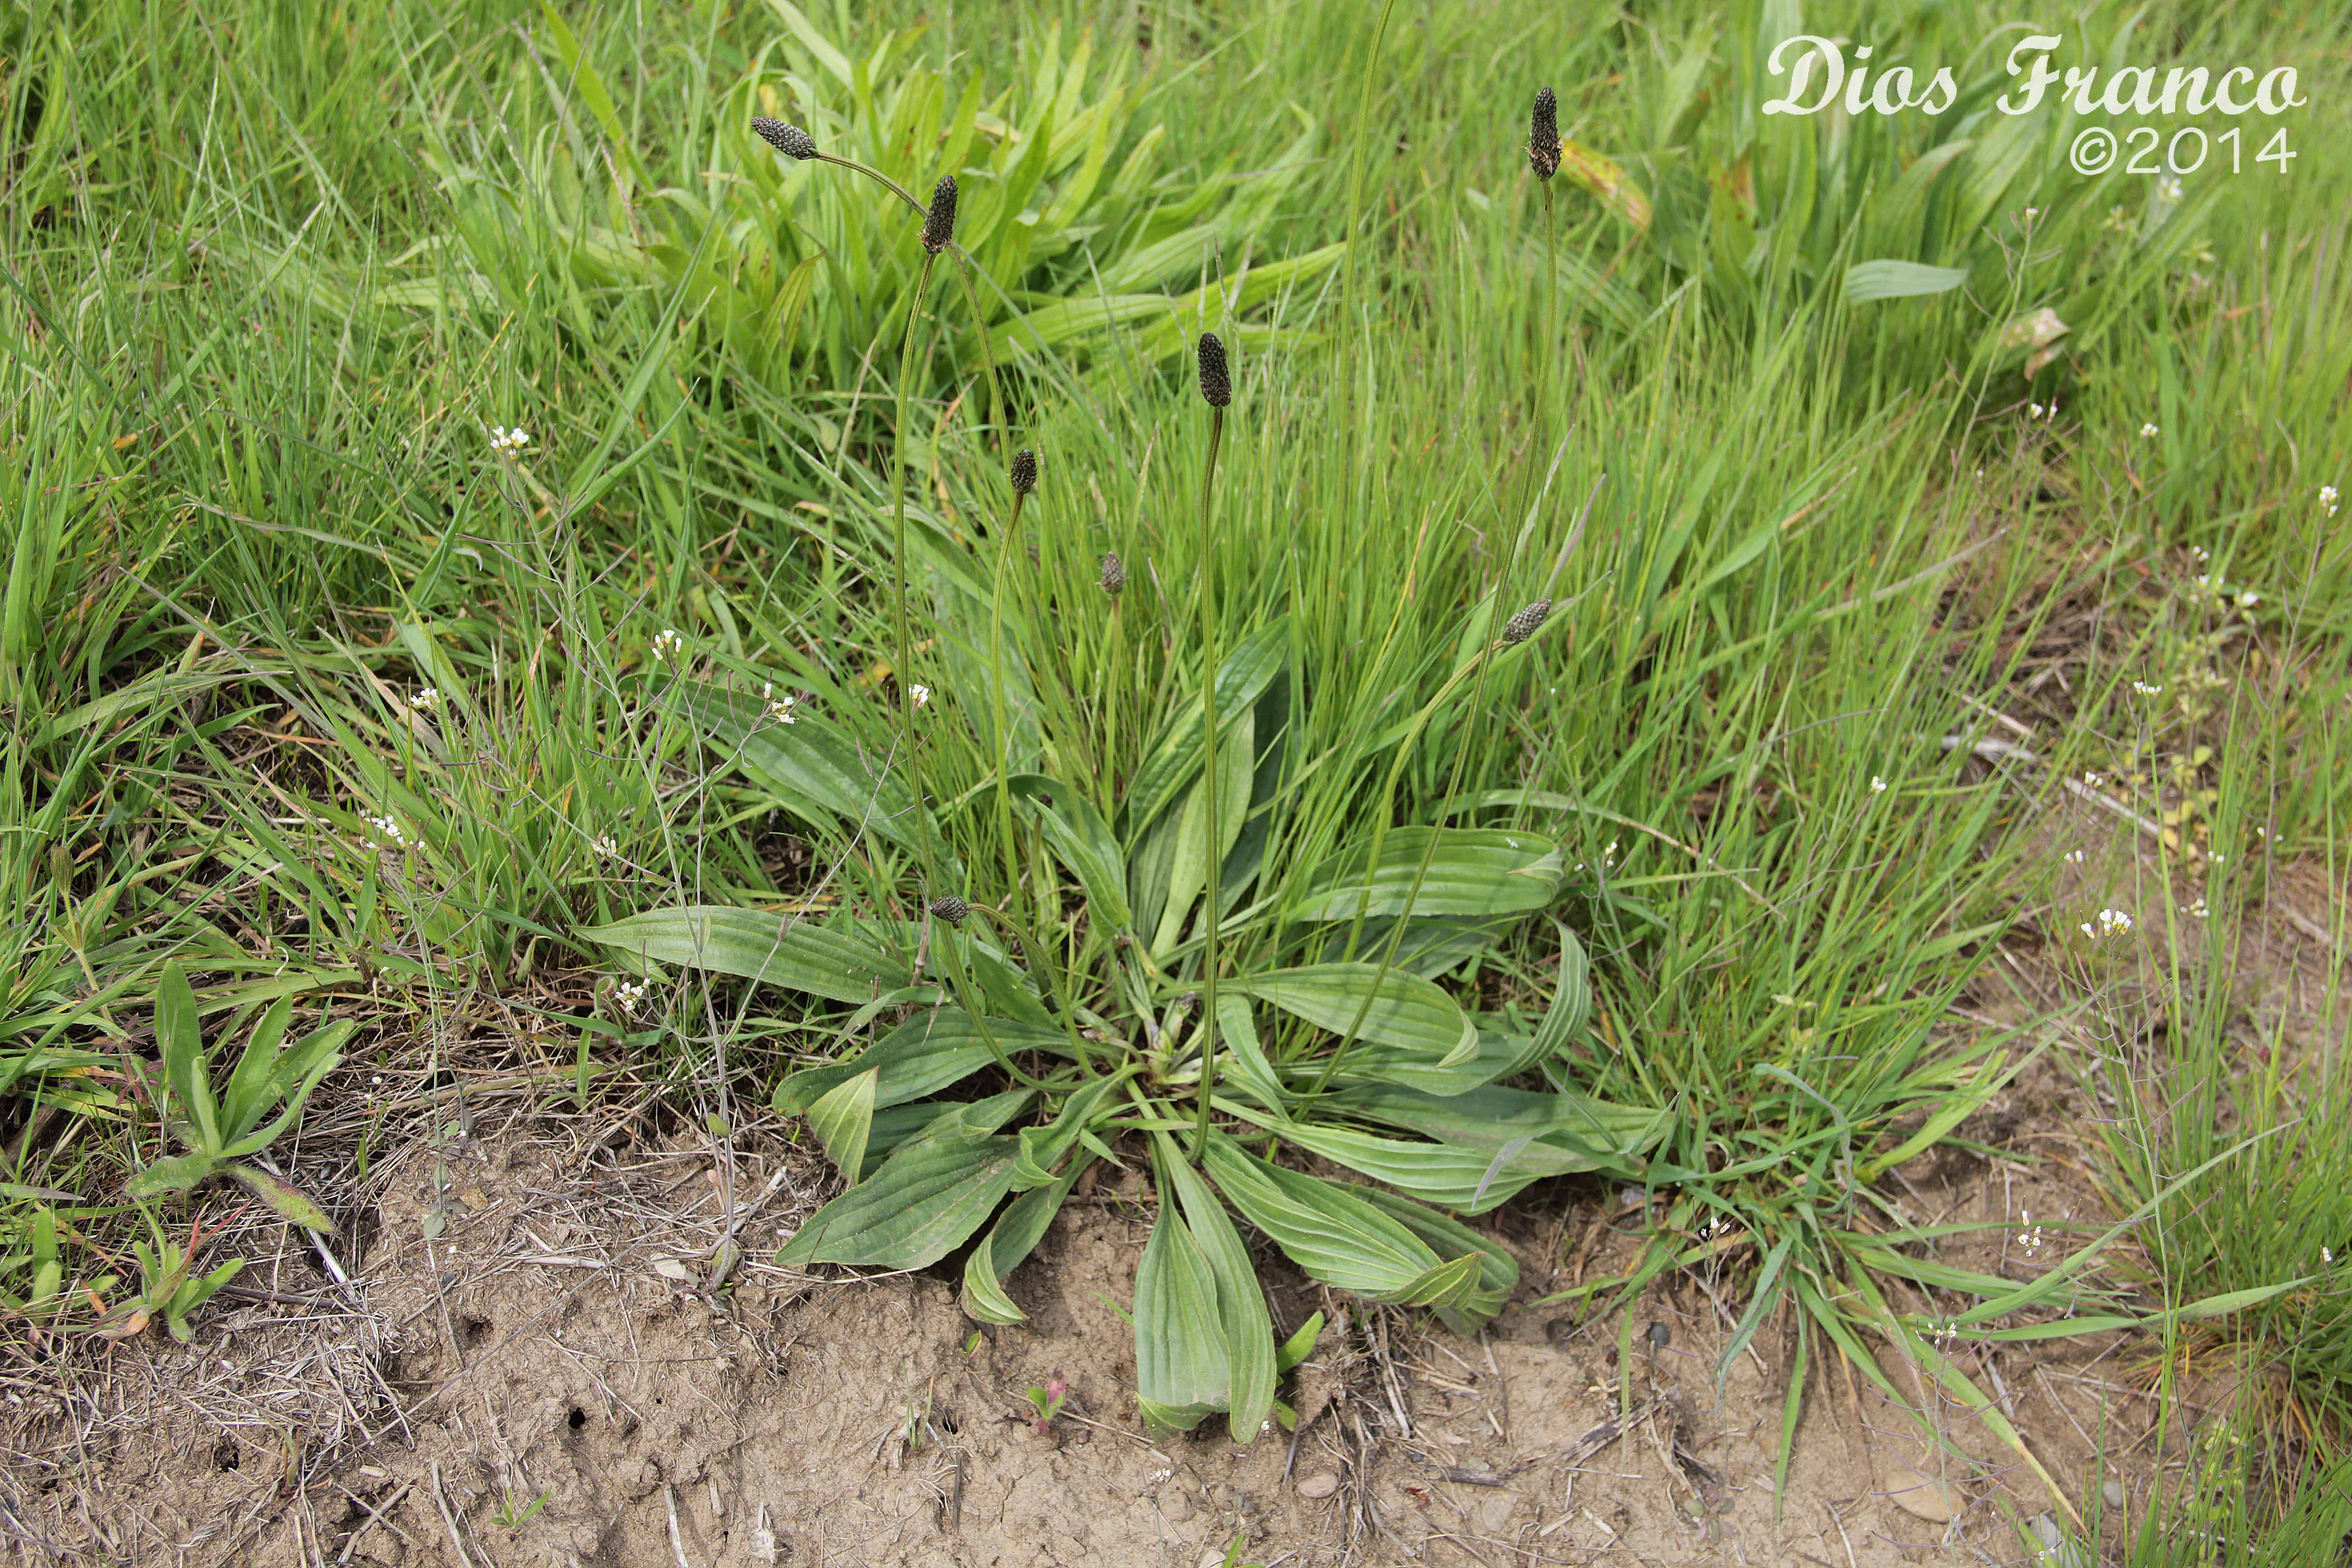buckhorn plantain: (716, 116, 1668, 1433)
